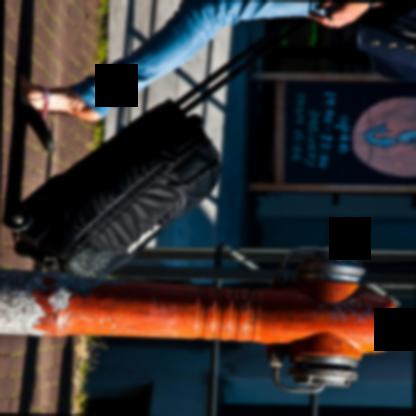suitcase: (0, 99, 220, 276)
